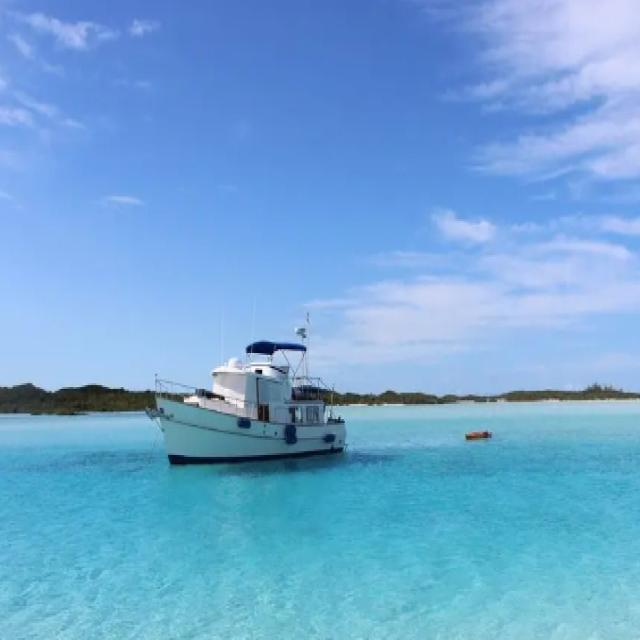houseboat: (153, 316, 351, 466)
